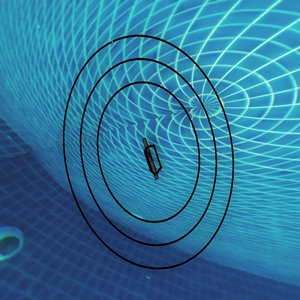circle: (32, 1, 257, 284)
submarine: (142, 142, 159, 176)
